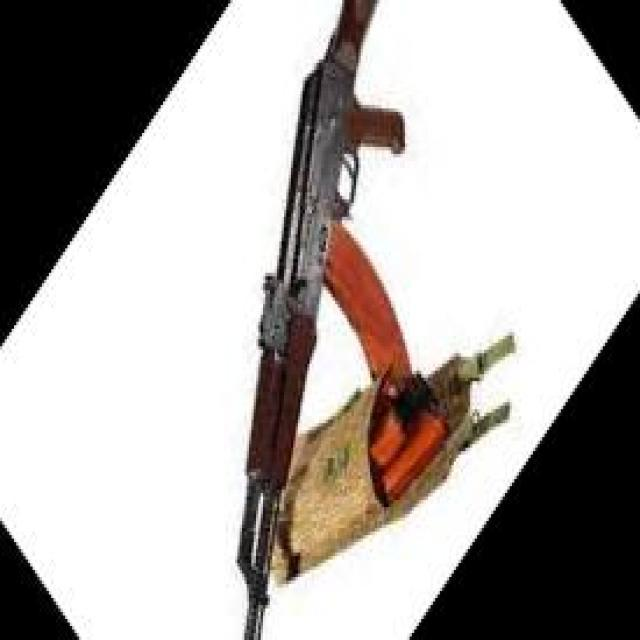weapon: (237, 0, 406, 640)
